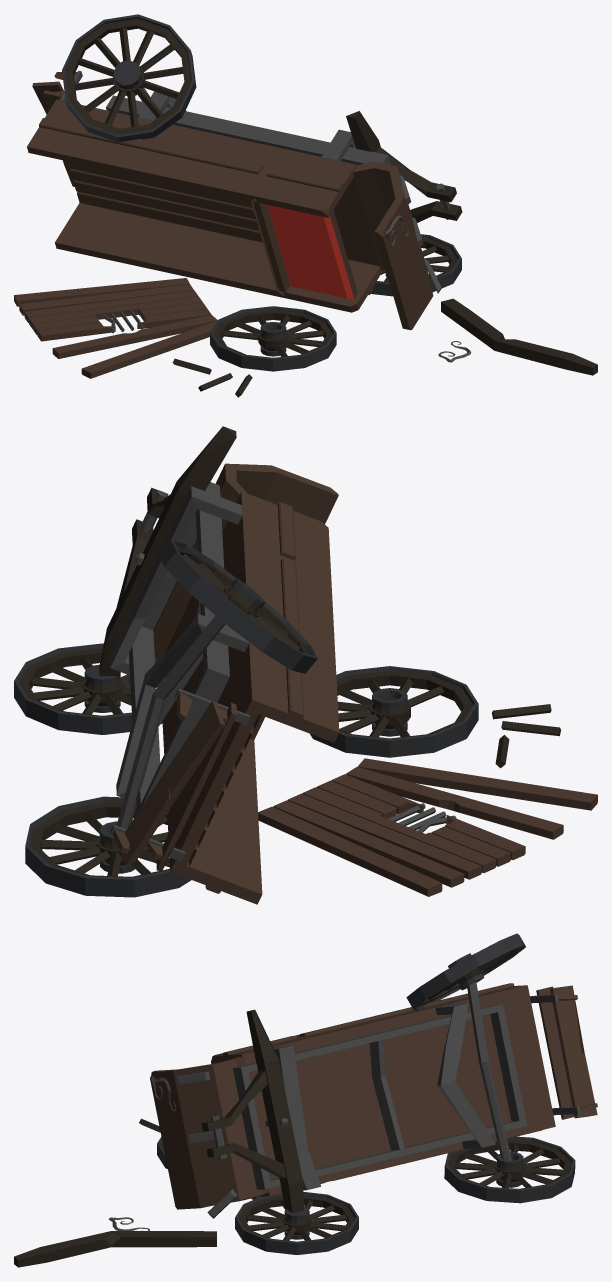
Rendered from cart_damaged.fbx.
3 views of the same model, one above another, from view 1: azimuth 30°, elevation 25°; view 2: azimuth 150°, elevation 25°; view 3: azimuth 270°, elevation 25° (orthographic). The views are drawn at different scales.
Parts seen in each view (by area): view 1: cart_damaged; view 2: cart_damaged; view 3: cart_damaged.
Part boxes in pixels (box(x1,y1,x2,y2)): cart_damaged: box(14, 14, 597, 397); cart_damaged: box(14, 426, 597, 904); cart_damaged: box(14, 933, 597, 1267).
Size of the model in its own units: 439 by 246 by 579.
